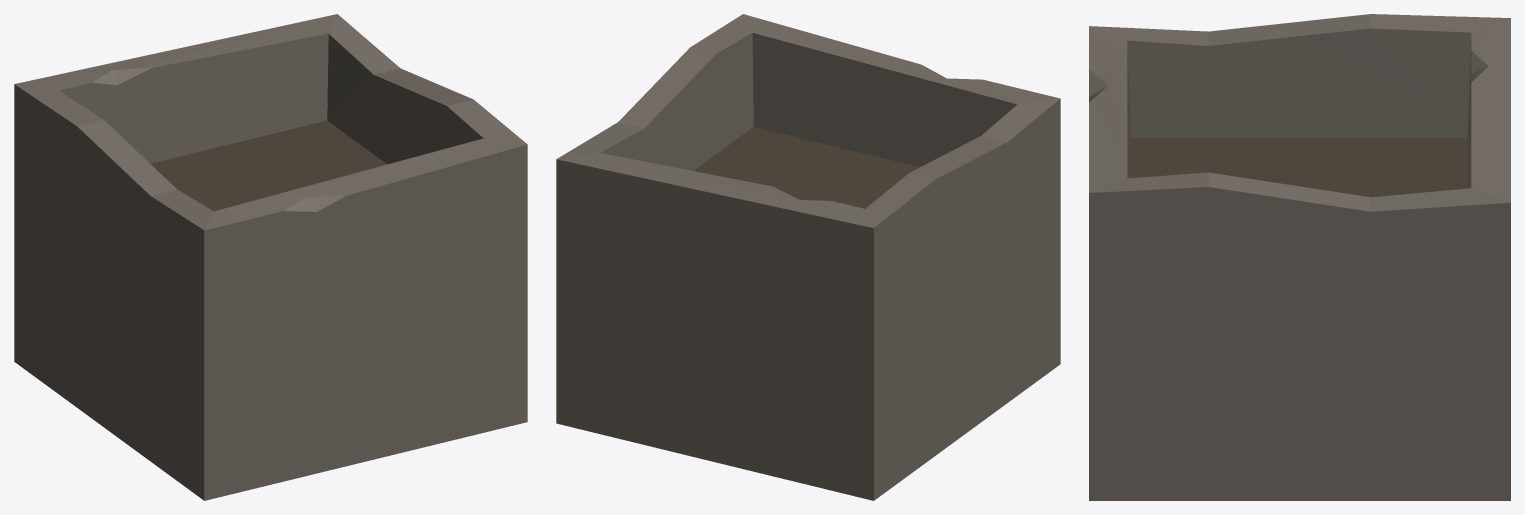
The model's file is SM_Bld_Apartment_Stairs_Planter_02.fbx.
The picture shows the model from 3 angles, left to right: view 1: azimuth 30°, elevation 25°; view 2: azimuth 150°, elevation 25°; view 3: azimuth 270°, elevation 25°; orthographic projection. The views are drawn at different scales.
Parts seen in each view (by area): view 1: SM_Bld_Apartment_Stairs_Planter_02; view 2: SM_Bld_Apartment_Stairs_Planter_02; view 3: SM_Bld_Apartment_Stairs_Planter_02.
Boxes of the visible parts, x1,y1,x2,y2 form: SM_Bld_Apartment_Stairs_Planter_02: (14,14,527,500); SM_Bld_Apartment_Stairs_Planter_02: (556,14,1060,500); SM_Bld_Apartment_Stairs_Planter_02: (1089,14,1510,500).
Bounding box in the file's own units: 228 × 191 × 233.
